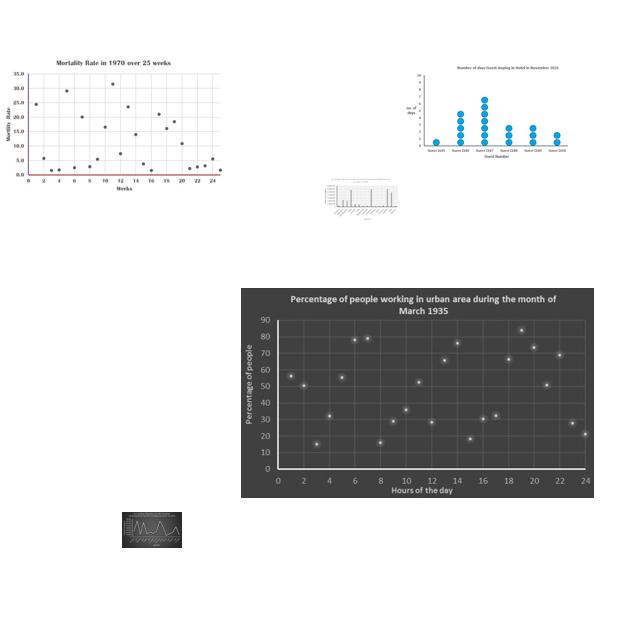Graph: (241, 288, 594, 498), (3, 59, 227, 195), (404, 64, 568, 161), (322, 177, 399, 221), (122, 512, 182, 548)
